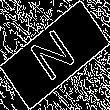N_SE: (27, 23, 83, 87)
